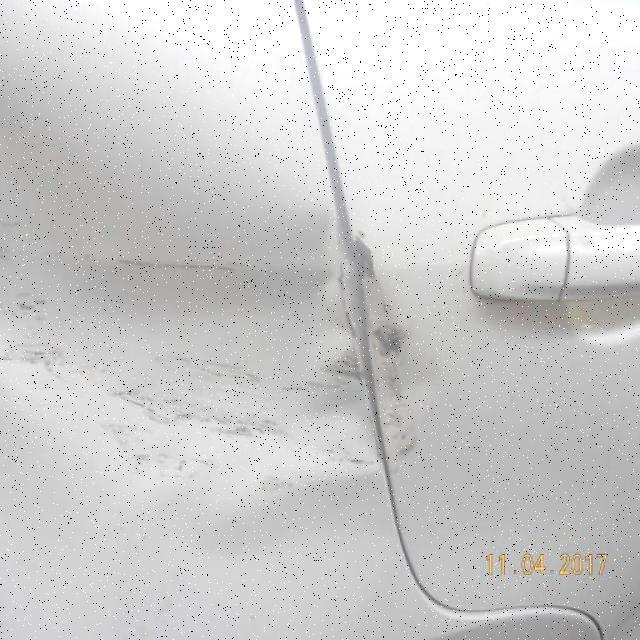car damage: (4, 211, 424, 485)
